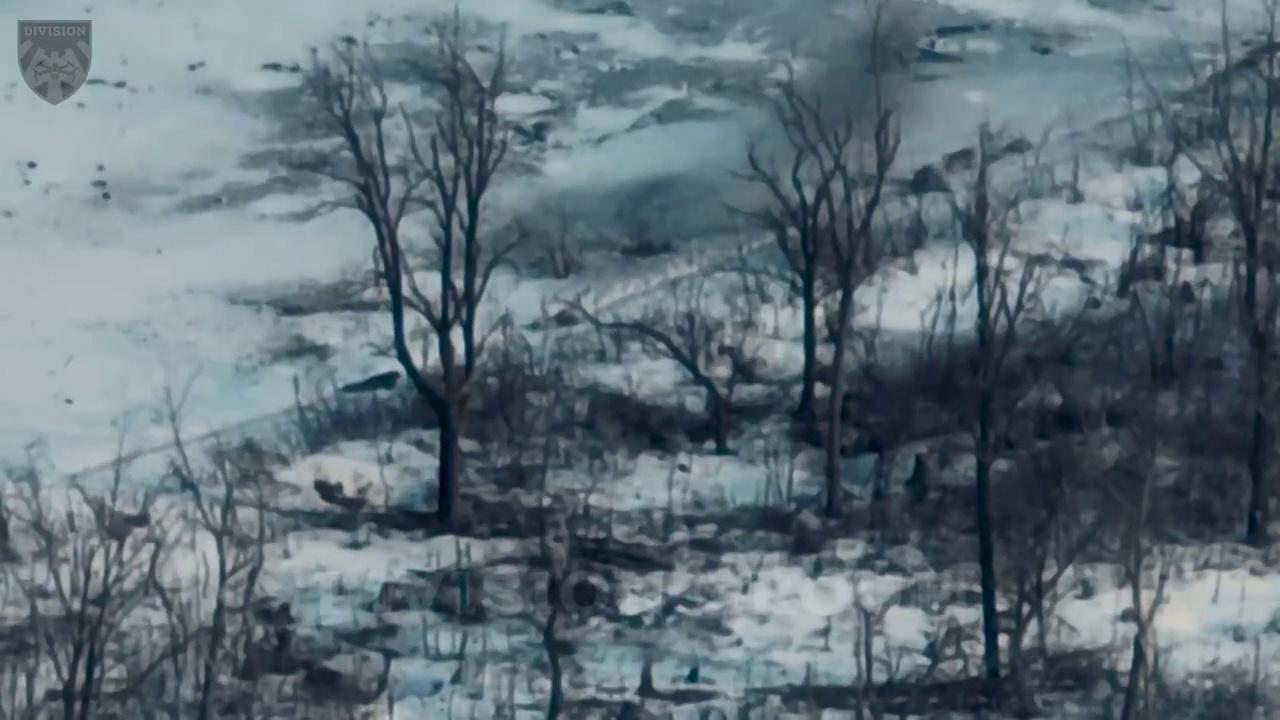person: (339, 367, 398, 398), (902, 446, 928, 516), (941, 142, 981, 177), (916, 165, 950, 195), (1006, 138, 1032, 155)
